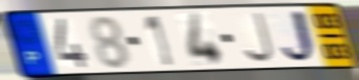1: (144, 13, 176, 68)
4: (187, 11, 225, 68), (55, 16, 89, 70)
8: (88, 14, 132, 71)
J: (279, 8, 321, 66), (241, 11, 276, 65)
